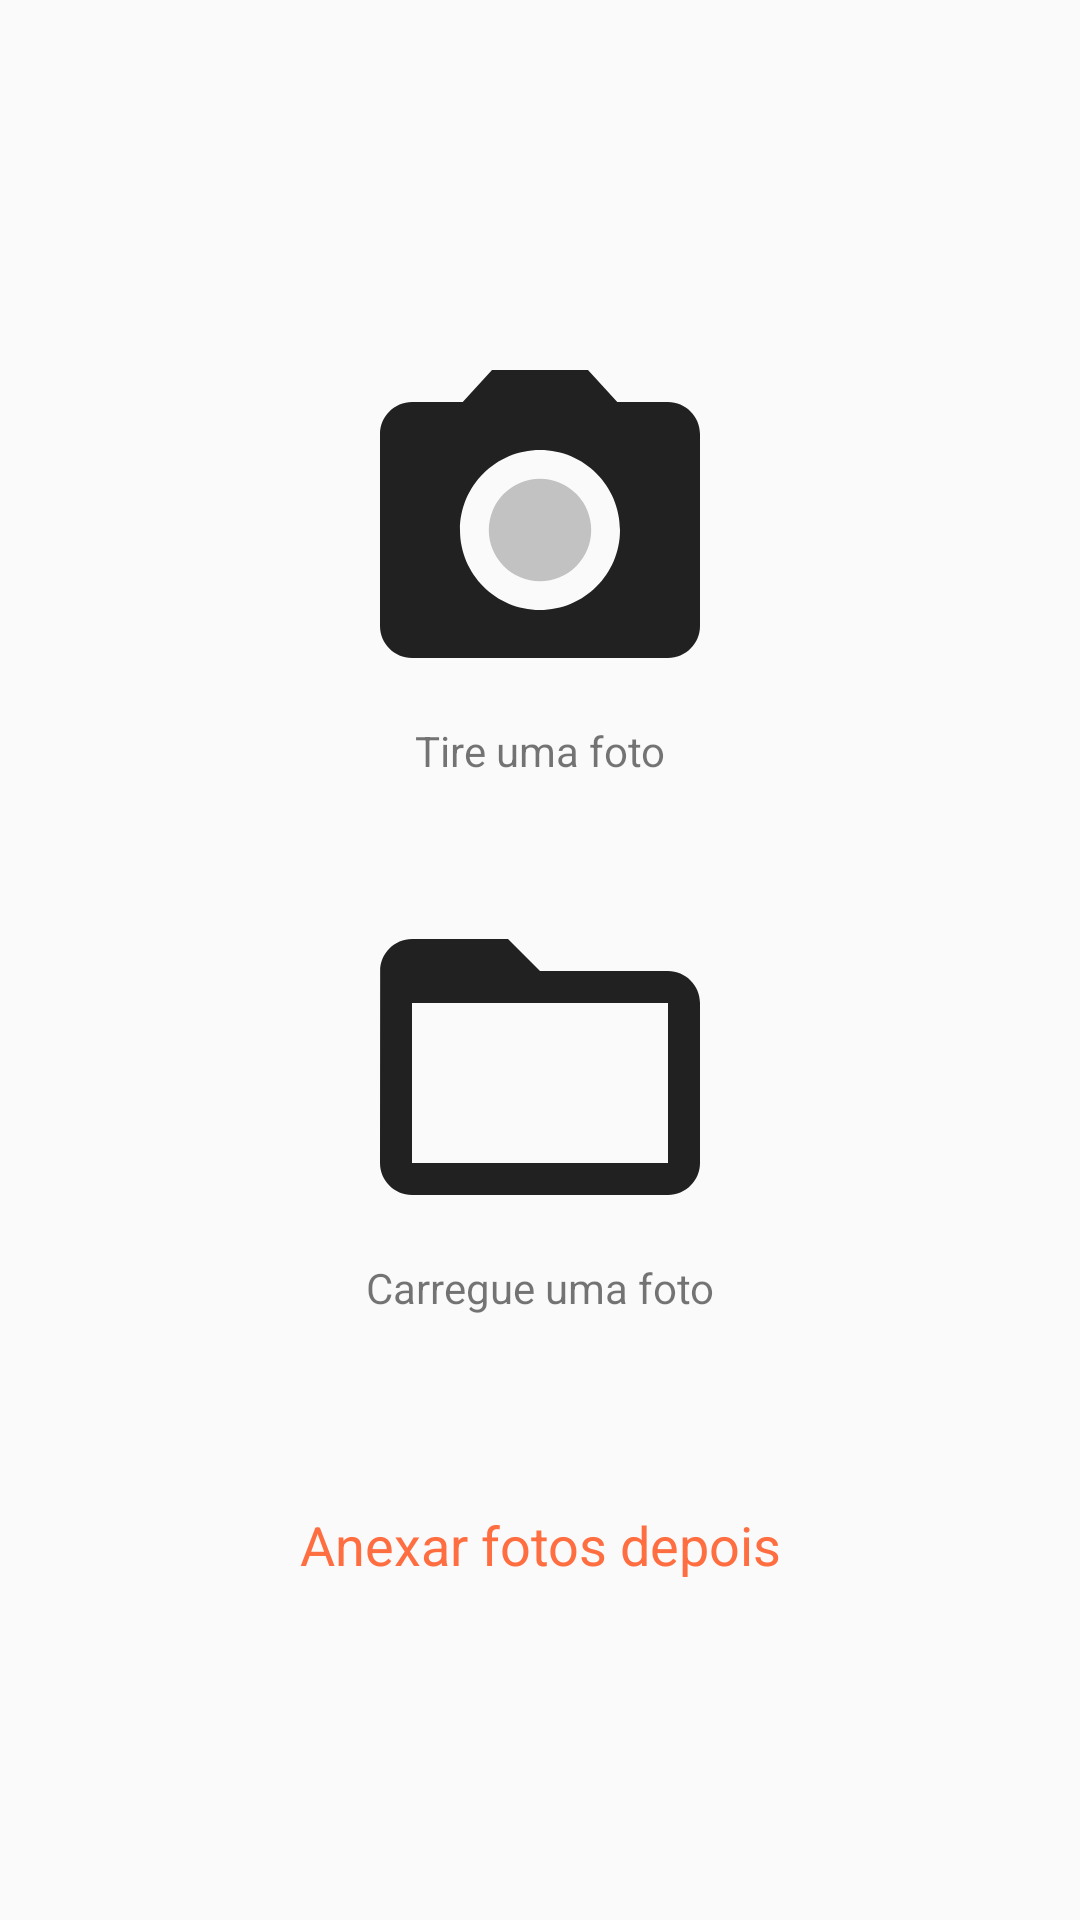

Named icons in this screenshot (1080px x 1920px) and their centers, (x=x, y=y):
camera: (x=540, y=514)
folder open: (x=540, y=1067)
